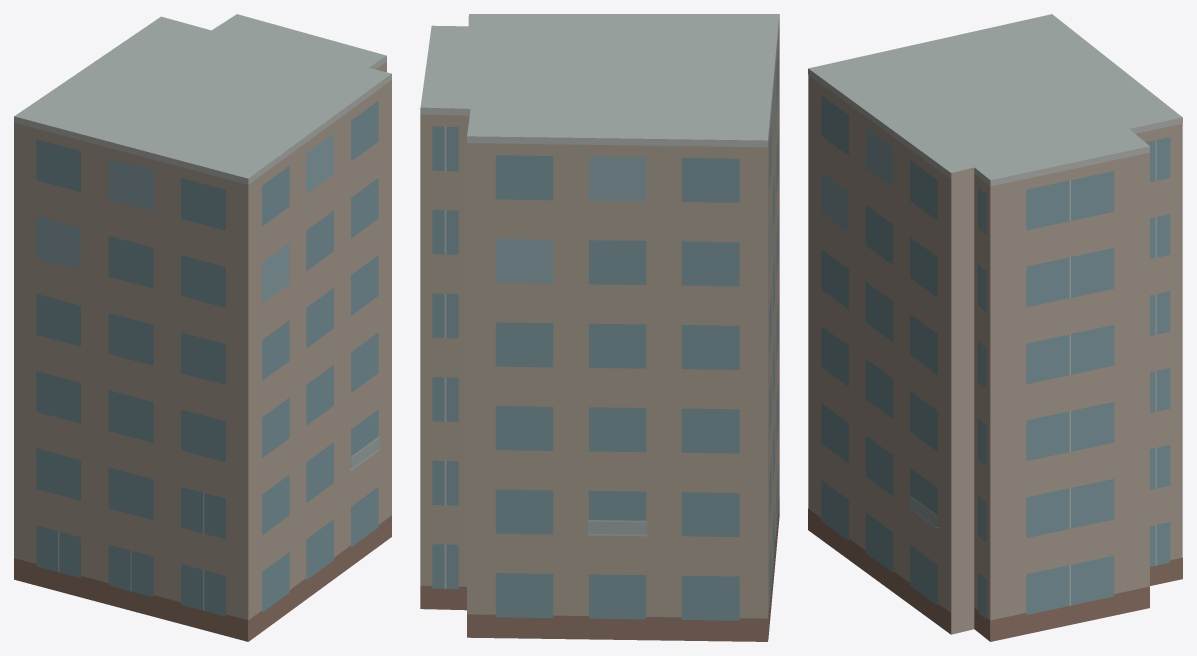
Rendered from survey-upis-32835270.glb.
3 renders of one model, left to right at view 1: azimuth 30°, elevation 25°; view 2: azimuth 150°, elevation 25°; view 3: azimuth 270°, elevation 25°, orthographic. The views are drawn at different scales.
Visible parts, largest first — view 1: survey-upis-32835270.tmp; view 2: survey-upis-32835270.tmp; view 3: survey-upis-32835270.tmp.
Part boxes in pixels (x1=…): survey-upis-32835270.tmp: x1=14, y1=14, x2=391, y2=641; survey-upis-32835270.tmp: x1=420, y1=14, x2=779, y2=641; survey-upis-32835270.tmp: x1=808, y1=14, x2=1182, y2=641.
Bounding box in the file's own units: 13.91 × 18 × 13.25.
